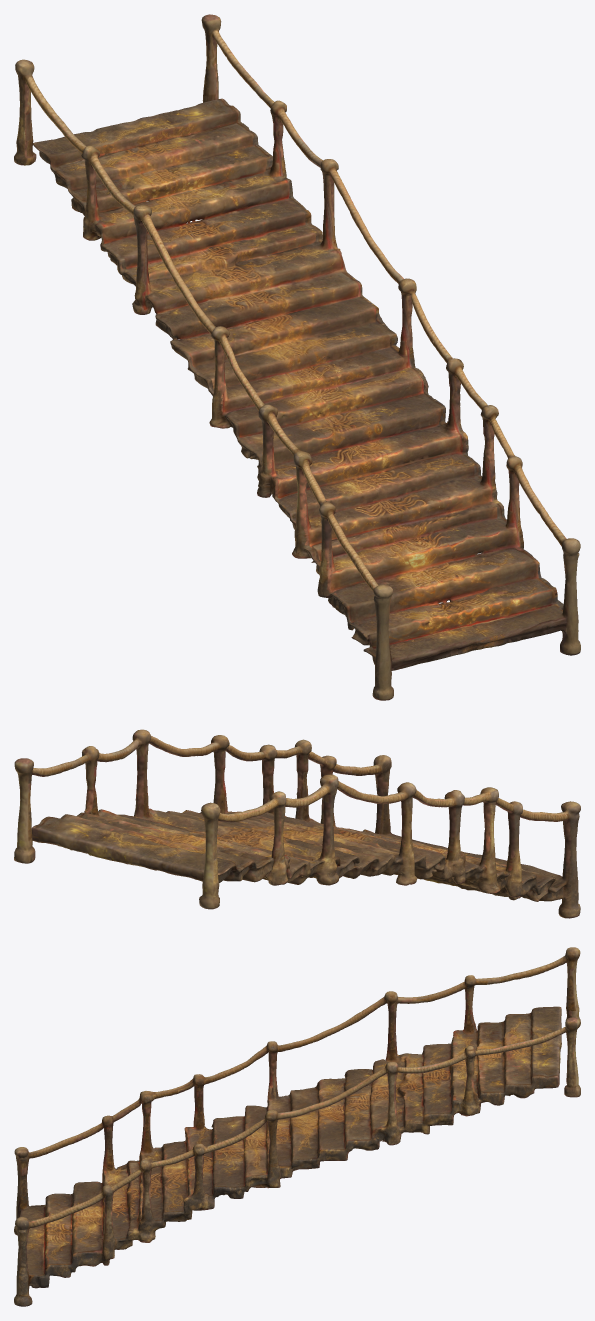
Rendered from ancient_bridge_made_o_0717203831_texture.fbx.
3 views of the same model, one above another, from view 1: azimuth 30°, elevation 25°; view 2: azimuth 150°, elevation 25°; view 3: azimuth 270°, elevation 25° (orthographic). The views are drawn at different scales.
Parts seen in each view (by area): view 1: Mesh_0; view 2: Mesh_0; view 3: Mesh_0.
Boxes of the visible parts, x1,y1,x2,y2 form: Mesh_0: (14, 14, 580, 700); Mesh_0: (14, 729, 580, 918); Mesh_0: (14, 947, 580, 1306).
Size of the model in its own units: 64.23 by 111 by 199.
Materials: 1 (1 with a texture image).
